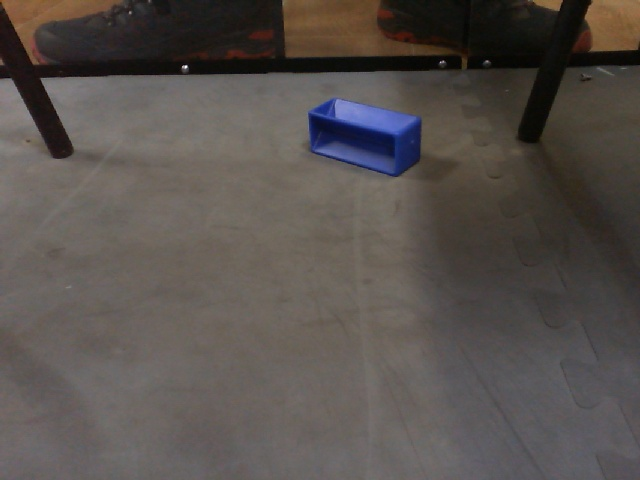BlueSample: (303, 97, 426, 179)
